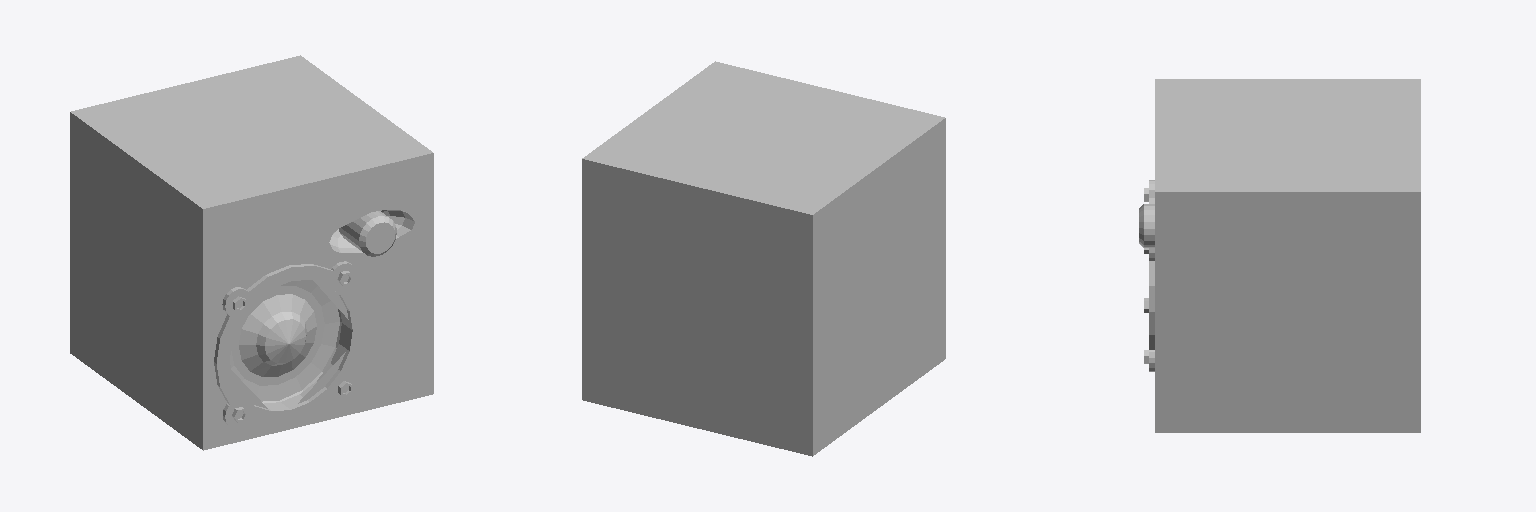
File: Fit_YinXiang_4.obj
3 views of the same model, side by side, from view 1: azimuth 30°, elevation 25°; view 2: azimuth 150°, elevation 25°; view 3: azimuth 270°, elevation 25° (orthographic).
Visible parts, largest first — view 1: Box008; view 2: Box008; view 3: Box008.
Boxes of the visible parts, x1=… form: Box008: x1=70, y1=55, x2=433, y2=450; Box008: x1=582, y1=61, x2=945, y2=456; Box008: x1=1139, y1=79, x2=1420, y2=432.
Bounding box in the file's own units: 1 × 1 × 1.06.